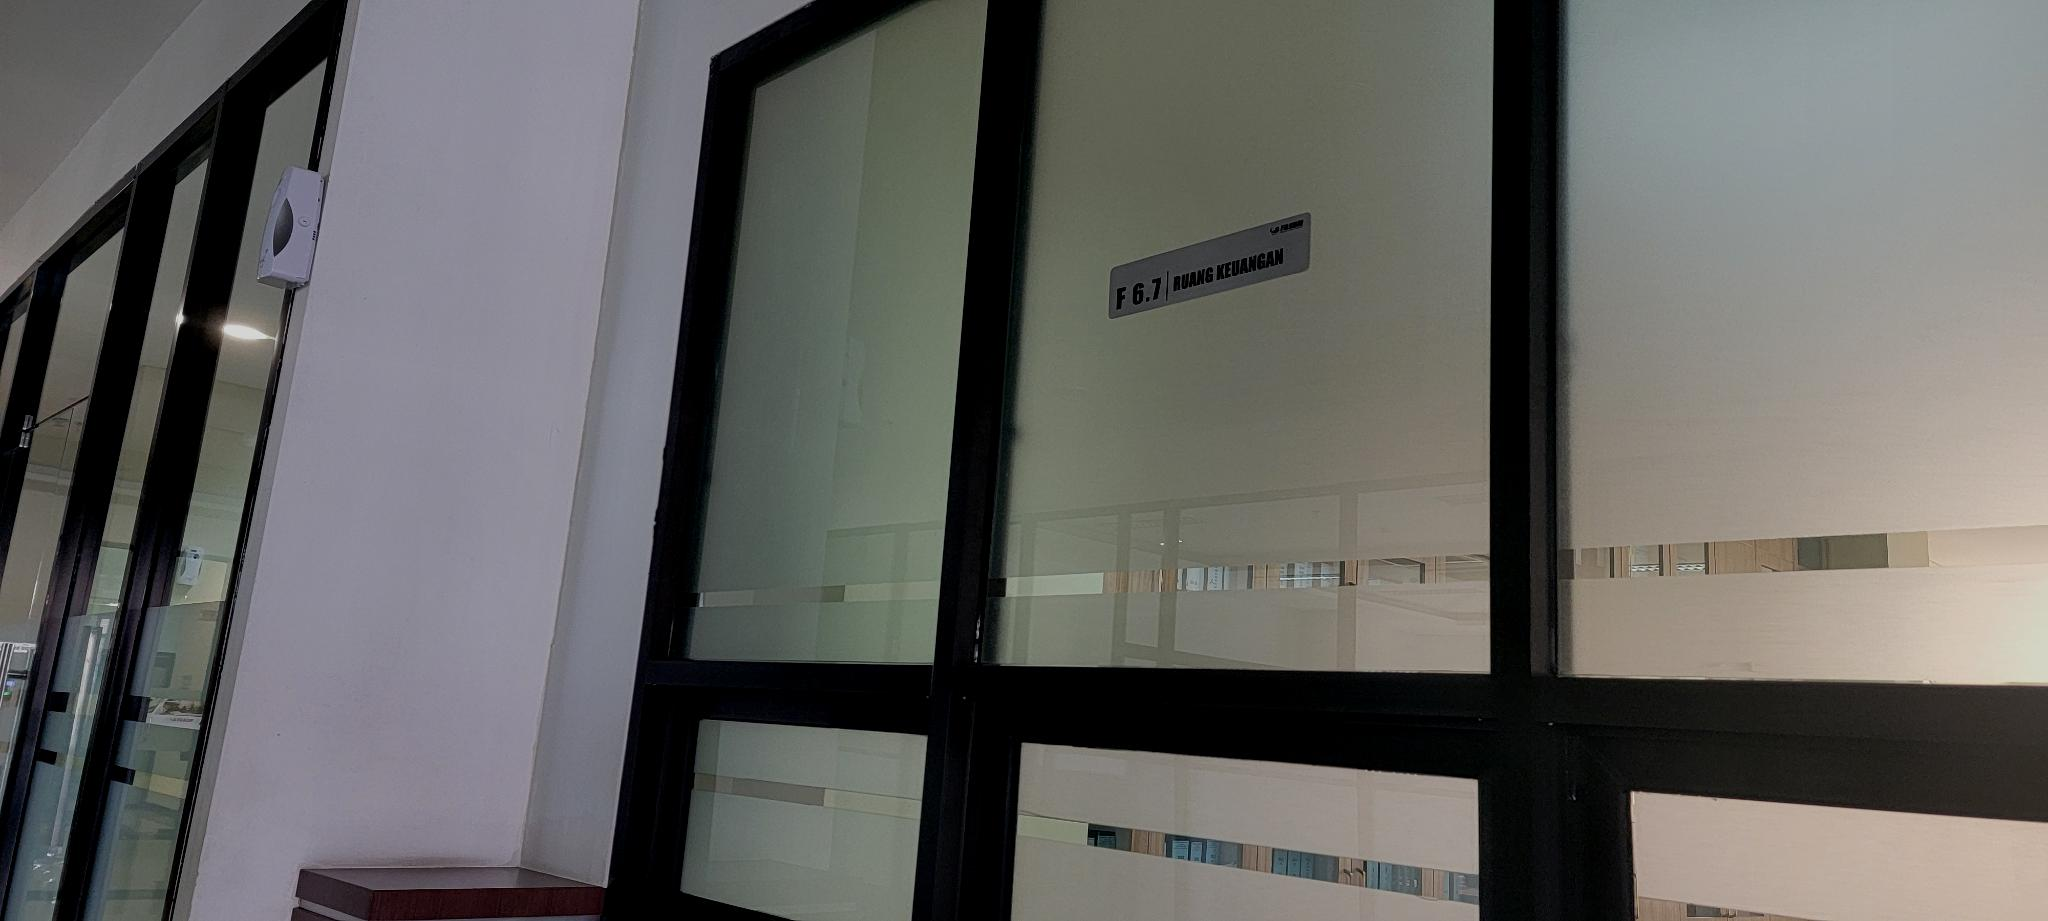plate: (1108, 212, 1311, 320)
